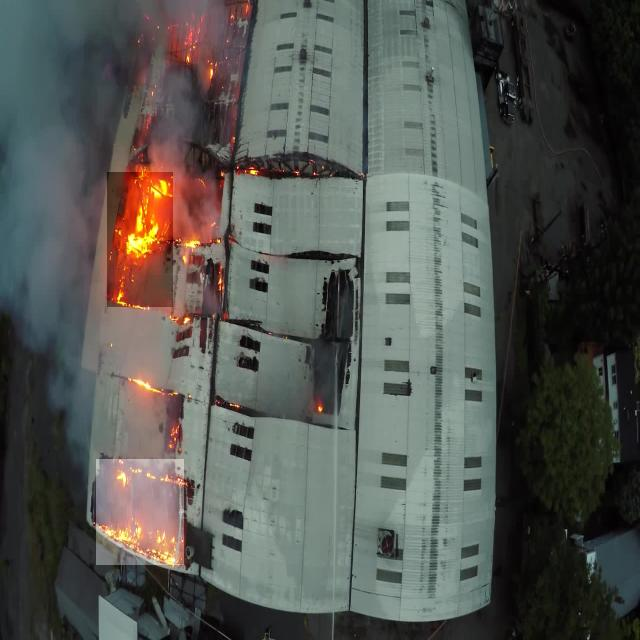Fire: (96, 459, 184, 565), (107, 172, 173, 307)
